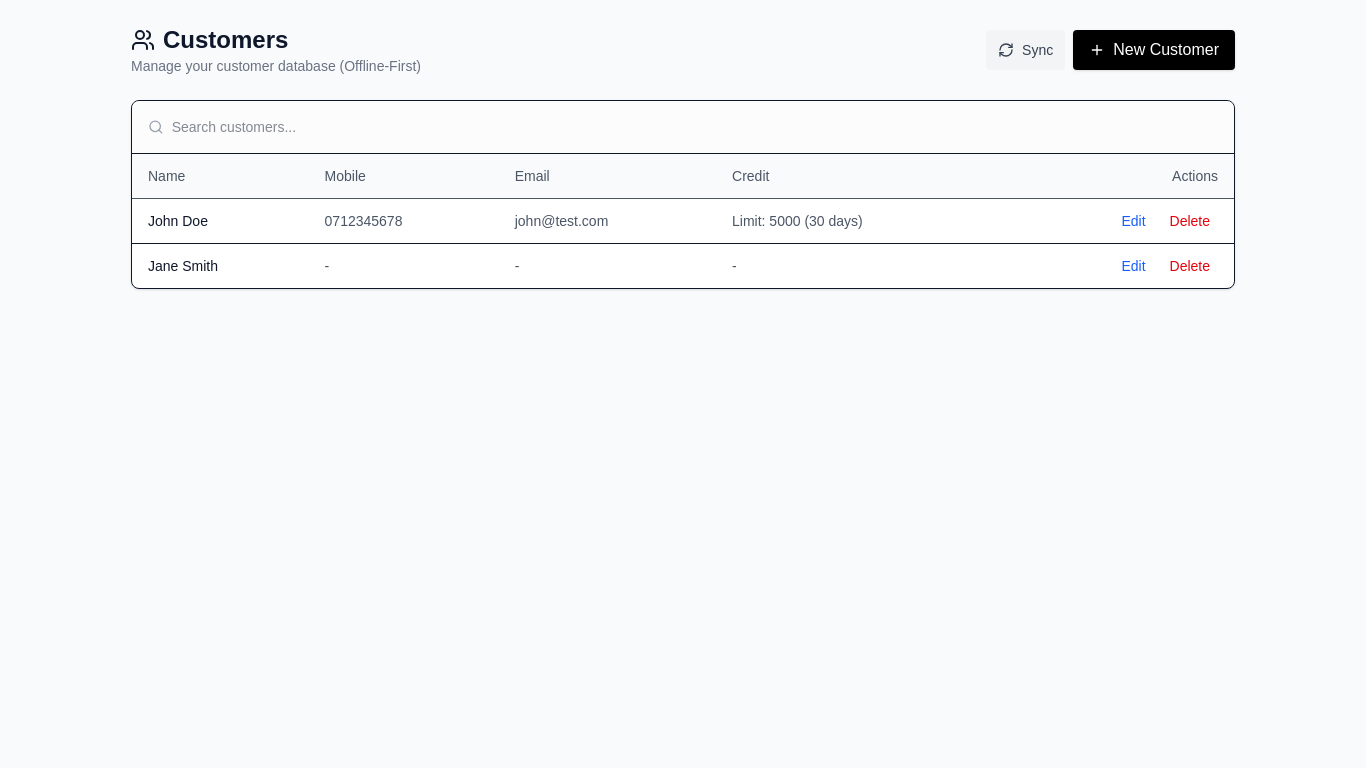
Test case: CustomersPage › shows validation error when name is empty
Click the button "New Customer".
click(1154, 50)  # box [1073,30,1235,70]
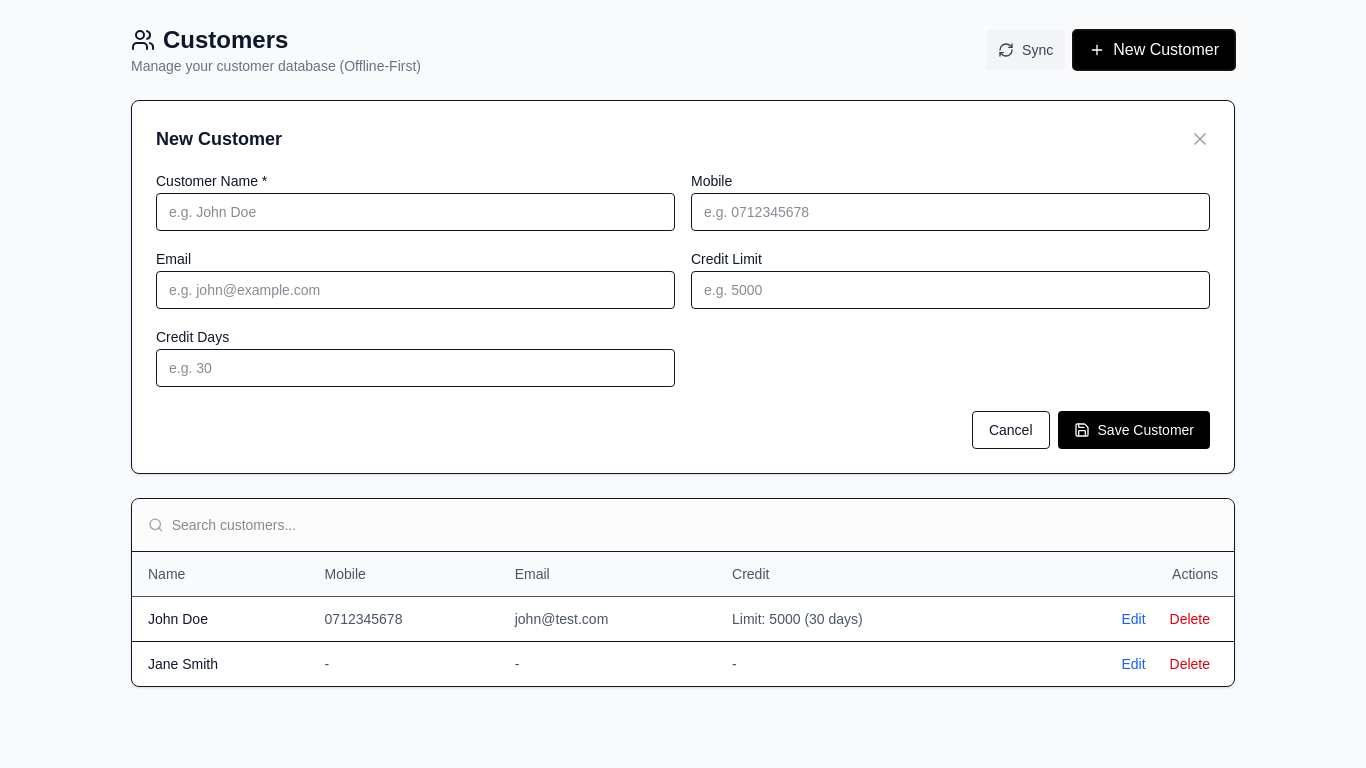
Click the button "Save Customer".
click(1134, 430)  # box [1058,411,1210,449]
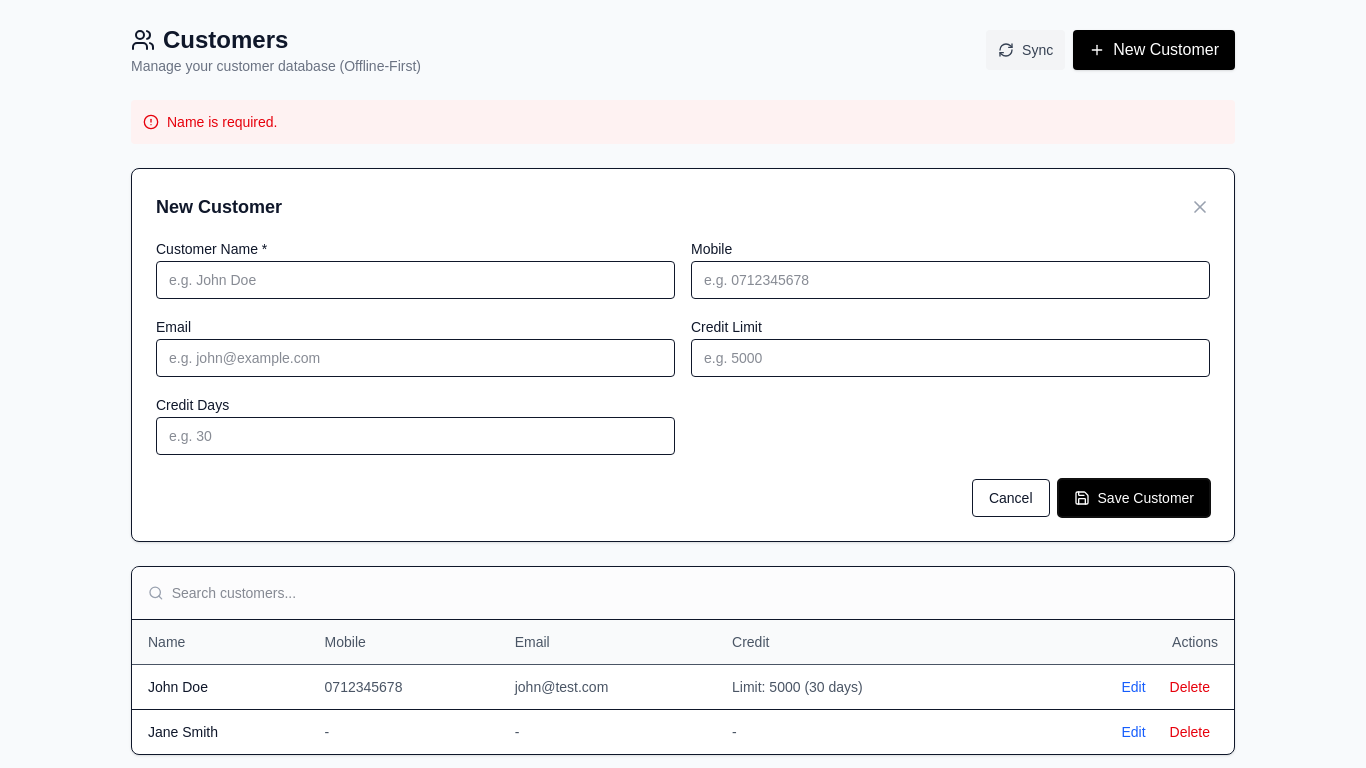
Expected: the text "Name is required." is shown, [131,100,1235,144]
